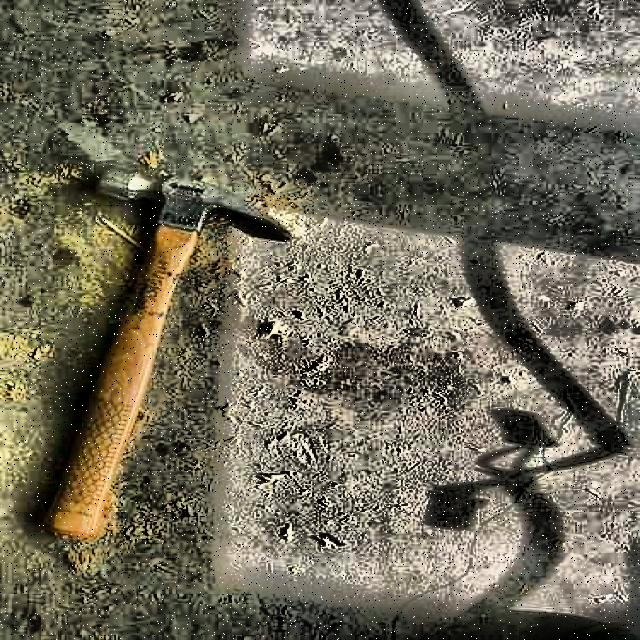hammer: (48, 164, 298, 542)
